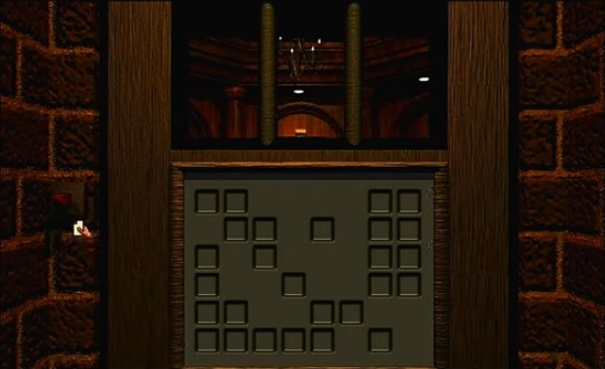Keep: (71, 218, 96, 239)
